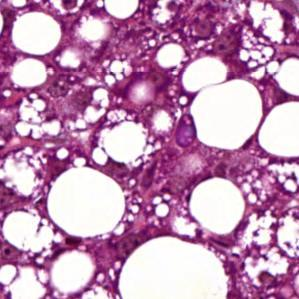steatosis: (46, 169, 130, 237), (184, 177, 249, 234), (10, 12, 66, 57)
